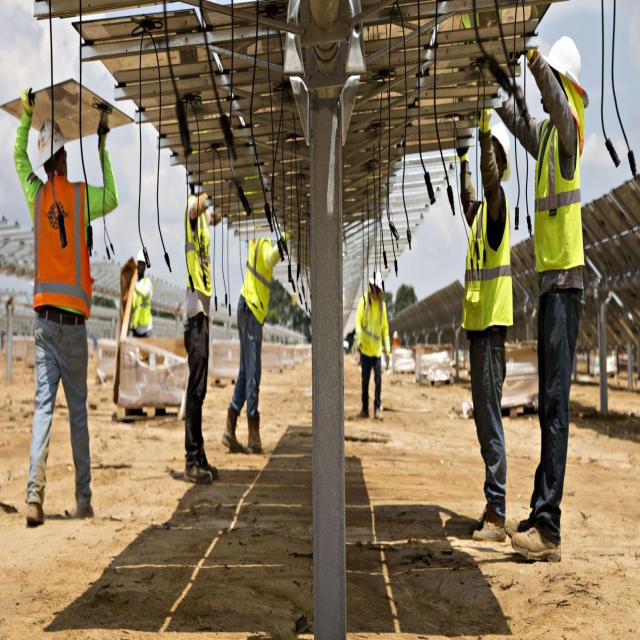Reflective-Jacket: (531, 102, 589, 275), (32, 177, 94, 321), (458, 187, 516, 335), (239, 232, 278, 326), (183, 212, 214, 300), (356, 288, 392, 356), (130, 272, 154, 332)
Safety-Helmet: (544, 32, 590, 98), (36, 112, 70, 166), (368, 268, 386, 290), (185, 192, 201, 216)
